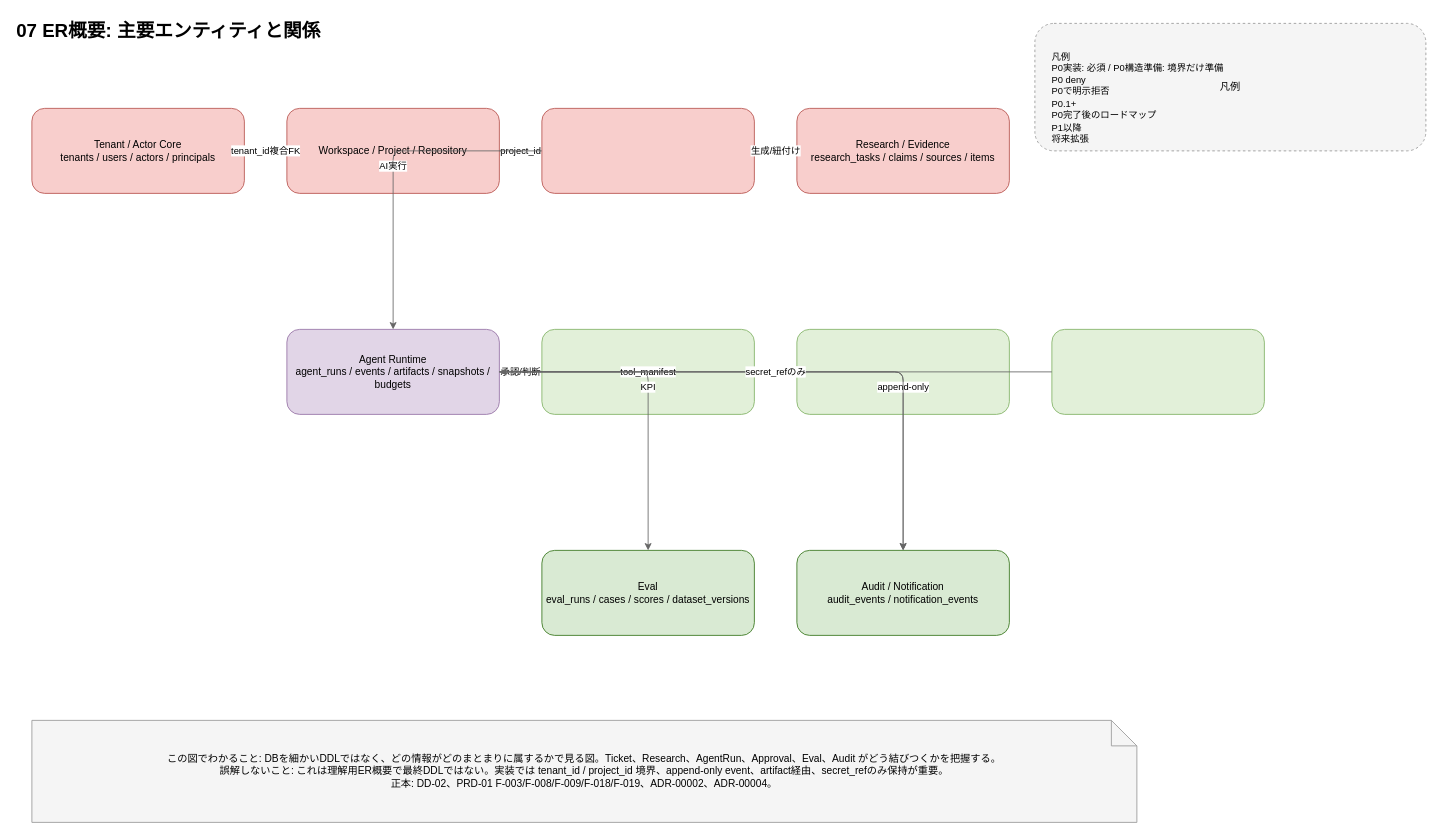
The diagram is 1441 pixels wide and 837 high, and some of its shapes have lost their labels. The shapes that lost their labels are listed below. From the top down, each one's centre as x and y in pixels, then its label:
At [647,150]: "Ticket Core tickets / relations / acceptance_criteria".
At [647,371]: "Policy / Approval rules / requests / decisions".
At [902,371]: "Tool Registry tools / versions / permissions".
At [1157,371]: "Secret refs secret_refのみ / capability token".
